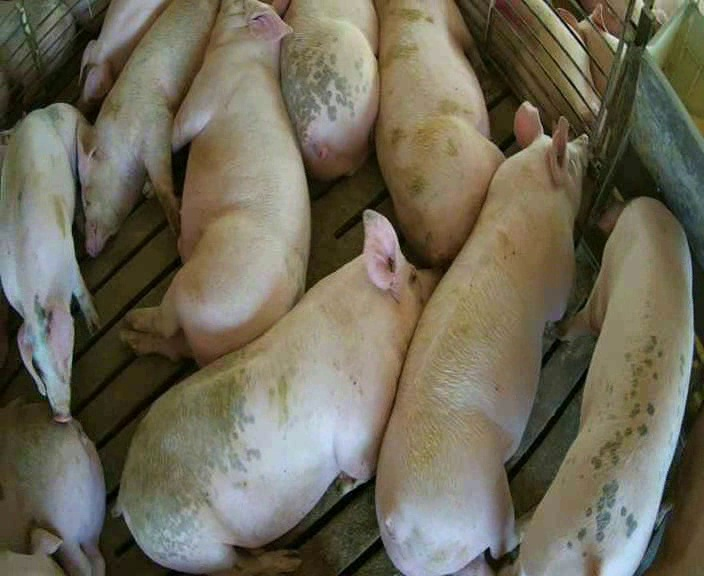pig: (111, 212, 434, 575), (498, 197, 693, 575), (122, 1, 309, 363), (77, 2, 216, 255), (376, 2, 503, 265), (0, 103, 97, 421), (282, 2, 378, 180), (78, 2, 166, 111)
